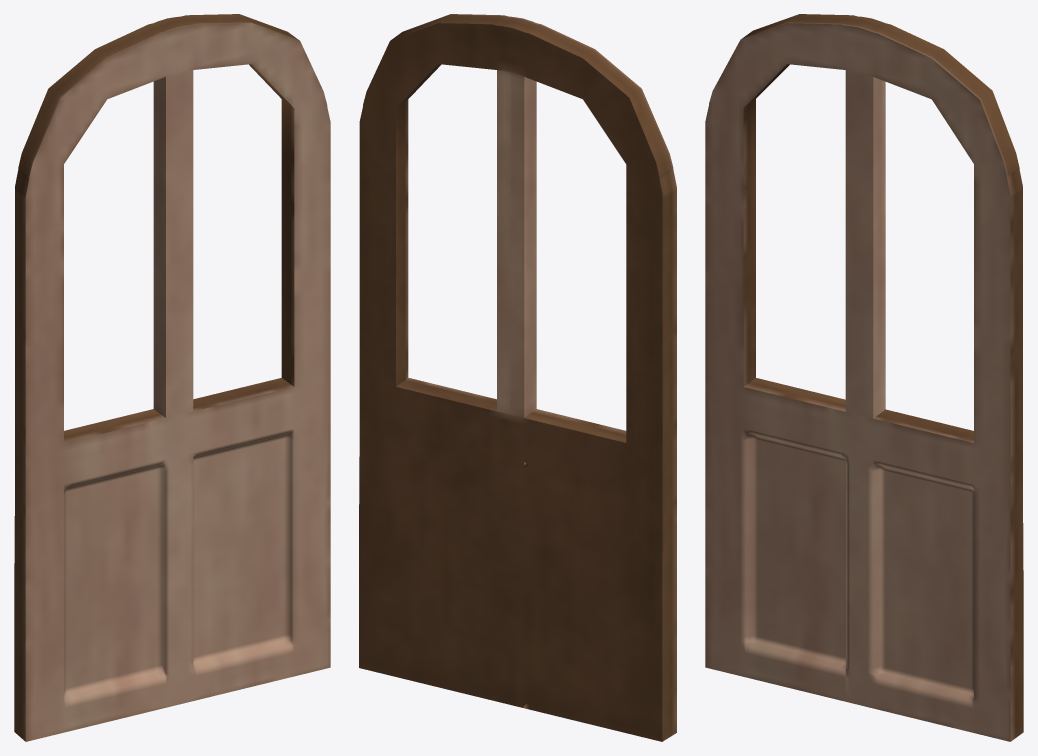
The model's file is door.glb.
The picture shows the model from 3 angles, left to right: view 1: azimuth 30°, elevation 25°; view 2: azimuth 150°, elevation 25°; view 3: azimuth 330°, elevation 25°; orthographic projection.
Parts seen in each view (by area): view 1: door.007; view 2: door.007; view 3: door.007.
Part boxes in pixels (x1,y1,x2,y2): door.007: (14,14,330,741); door.007: (359,14,676,741); door.007: (705,14,1023,741).
Size of the model in its own units: 2.84 by 6.03 by 0.2094.
1 material, 1 textured.
